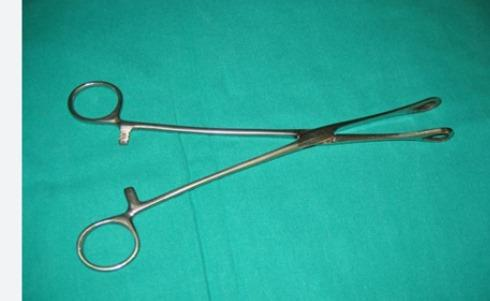Sponge Holding Forceps: (61, 74, 462, 270)
